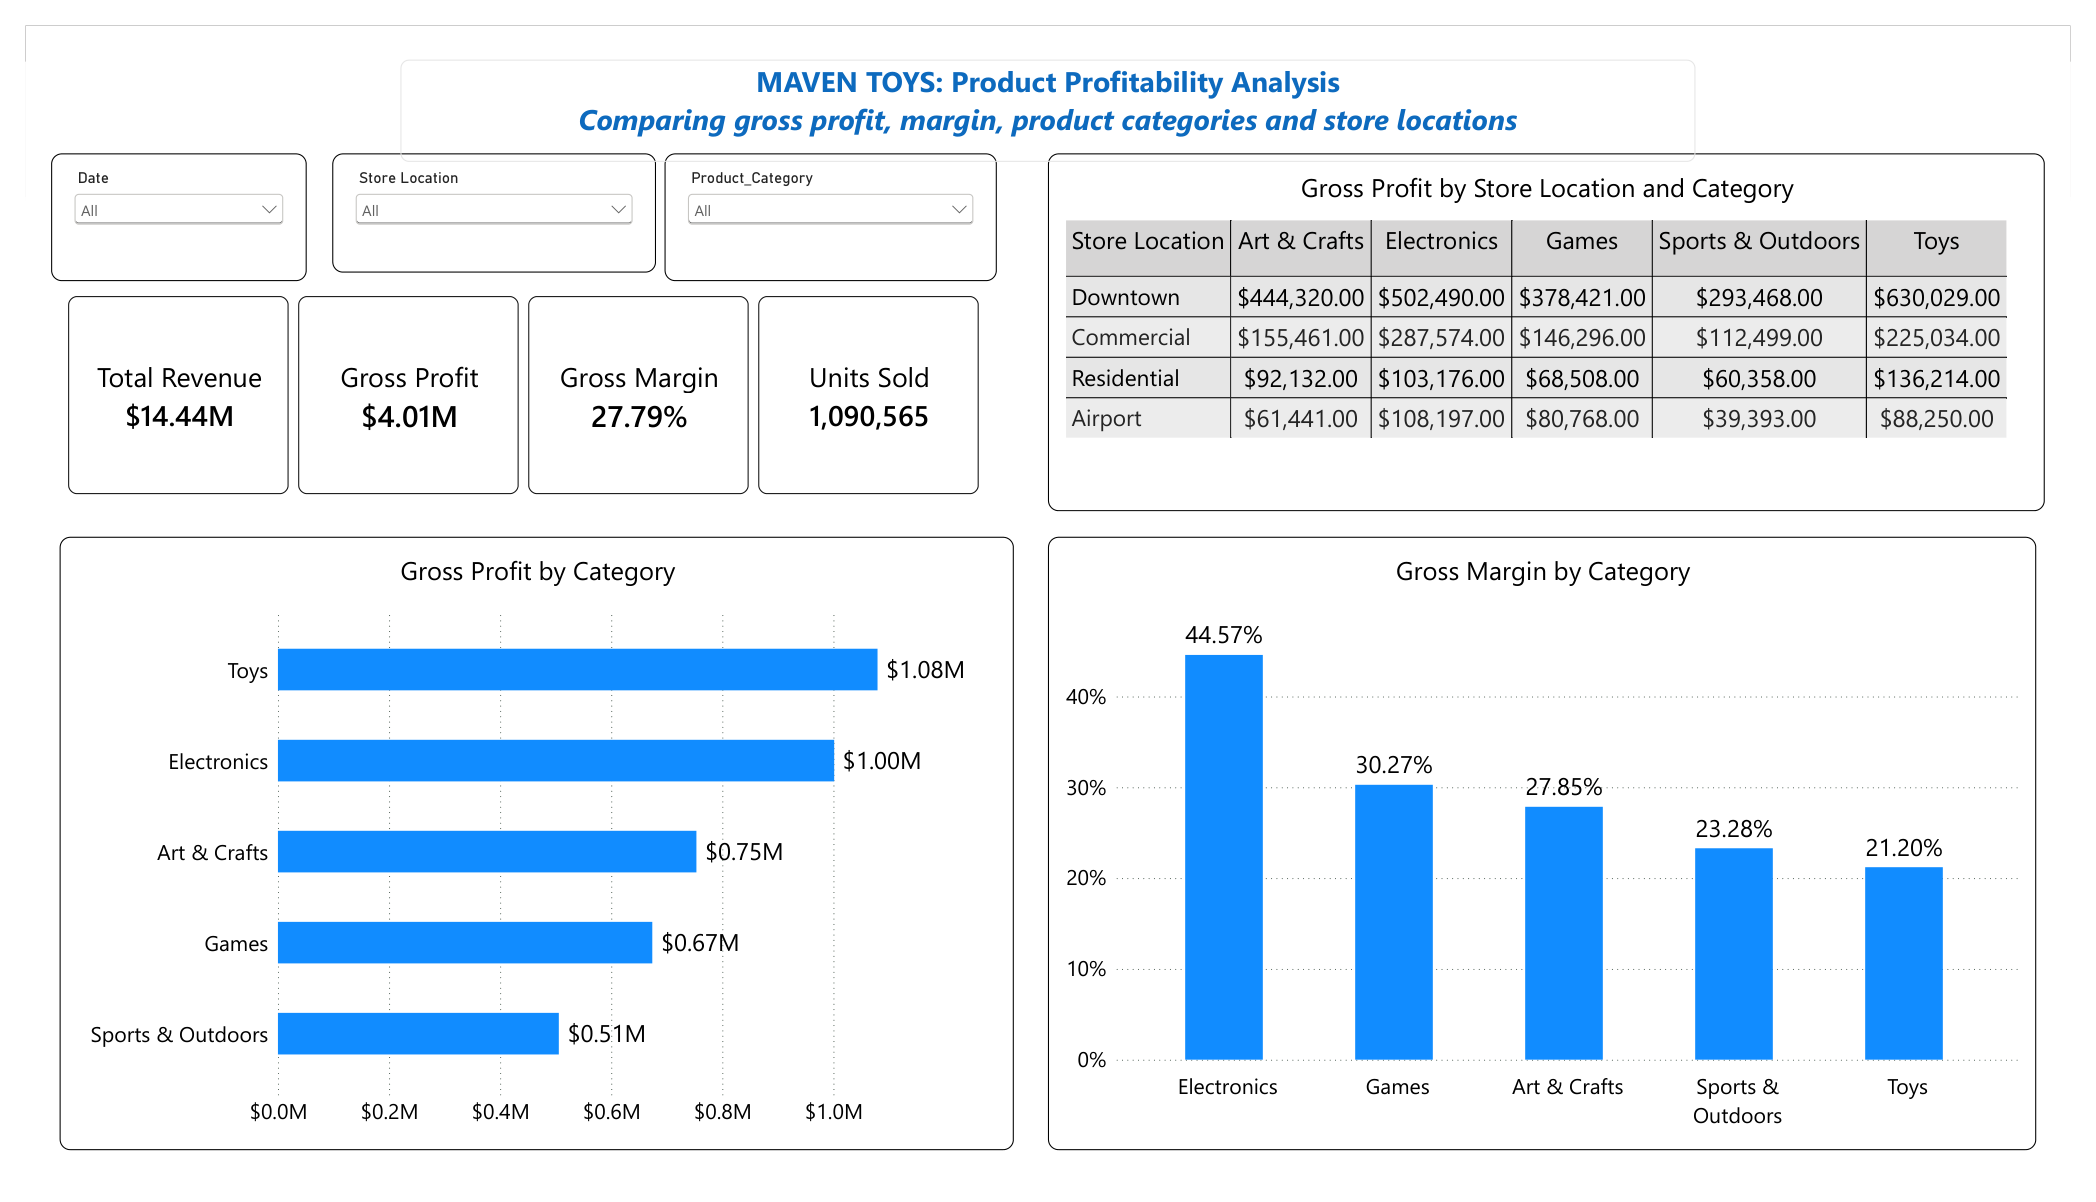

Layout of this report page (visuals, bound fields, positions):
{"tool":"powerbi","page":{"name":"Product Profitability","canvas":[1920,1080],"ordinal":0},"visuals":[{"type":"slicer","fields":{"Values":["stores.Store_Location"]},"box":[288,120,304,112],"z":1},{"type":"slicer","fields":{"Values":["Date.Date.Variation.Date Hierarchy.Year"]},"box":[24,120,240,120],"z":4},{"type":"clusteredBarChart","title":"Gross Profit by Category","fields":{"Category":["products.Product_Category"],"Y":["Measure.Gross Profit"]},"box":[32,480,896,576],"z":5},{"type":"cardVisual","fields":{"Data":["Measure.Total_Revenue","Measure.Gross Profit","Measure.Gross_Margin","Measure.Total_Unit_Sold"]},"box":[24,240,888,216],"z":8},{"type":"slicer","fields":{"Values":["products.Product_Category"]},"box":[600,120,312,120],"z":9},{"type":"clusteredColumnChart","title":"Gross Margin by Category","fields":{"Category":["products.Product_Category"],"Y":["Measure.Gross_Margin"]},"box":[960,480,928,576],"z":10},{"type":"pivotTable","title":"Gross Profit by Store Location and Category","fields":{"Columns":["products.Product_Category"],"Rows":["stores.Store_Location"],"Values":["Measure.Gross Profit"]},"box":[960,120,936,336],"z":11},{"type":"textbox","box":[352,32,1216,96],"z":12}]}

Visuals, with their boxes in screenshot pixels (x1, y1, x2, y2), scaled from the page's 1920x1080 canvas onto the 2096x1202 screenshot:
slicer - stores.Store_Location: 314,134,646,258
slicer - Date.Date.Variation.Date Hierarchy.Year: 26,134,288,267
"Gross Profit by Category" clusteredBarChart: 35,534,1013,1175
cardVisual - Measure.Total_Revenue x Measure.Gross Profit: 26,267,996,508
slicer - products.Product_Category: 655,134,996,267
"Gross Margin by Category" clusteredColumnChart: 1048,534,2061,1175
"Gross Profit by Store Location and Category" pivotTable: 1048,134,2070,508
textbox: 384,36,1712,142
